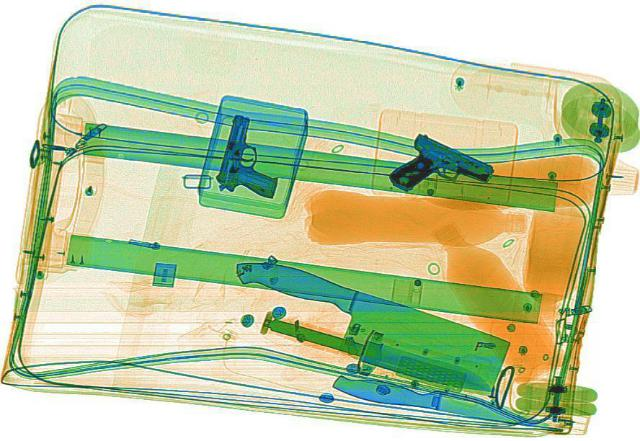Gun: (374, 131, 501, 208), (212, 112, 292, 198)
Knife: (198, 247, 532, 404), (254, 309, 501, 398), (326, 366, 552, 432)
